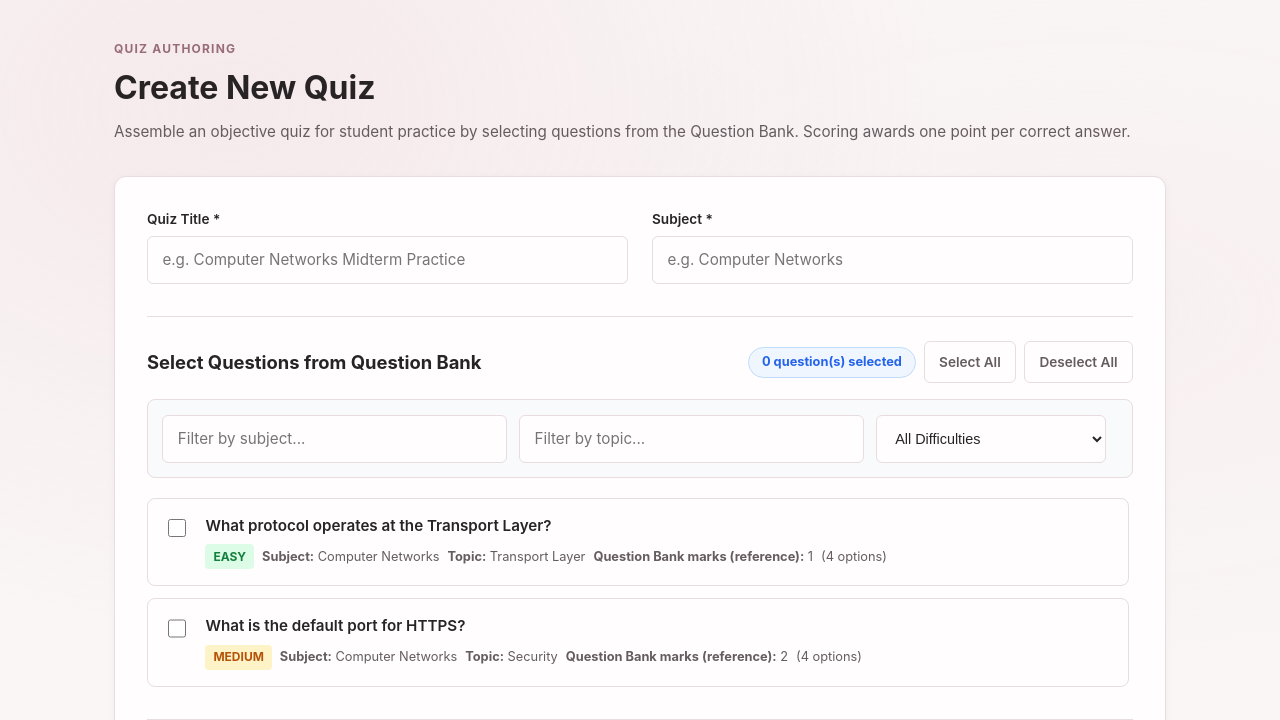
Test: CreateQuizPage (CSMQ-49) › validates empty subject on submission
Expected: the text "What protocol operates at the Transport Layer?" is shown, [205,516,552,535]
Type "CN Midterm Prep" into the field labelled "Quiz Title *" at (388,260), box [147,236,628,284]
(page scrolled)
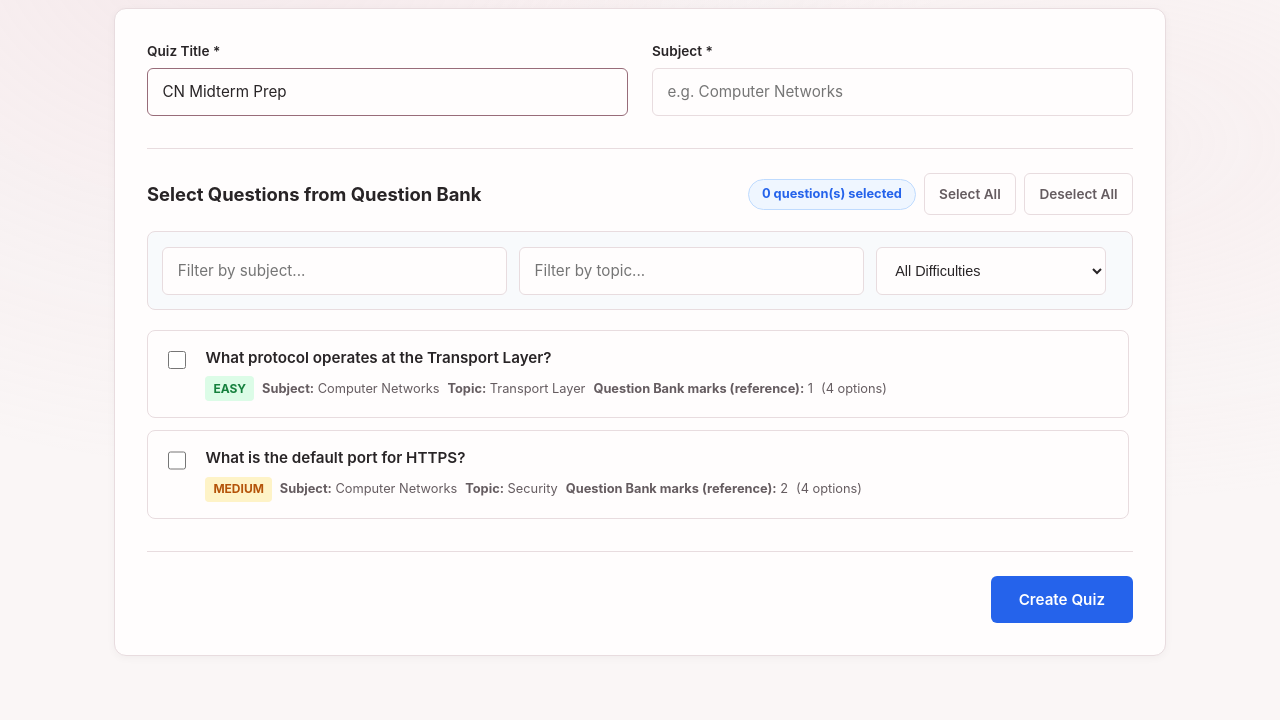
Click the button "Create Quiz" at (1062,599), box [991,576,1133,623]
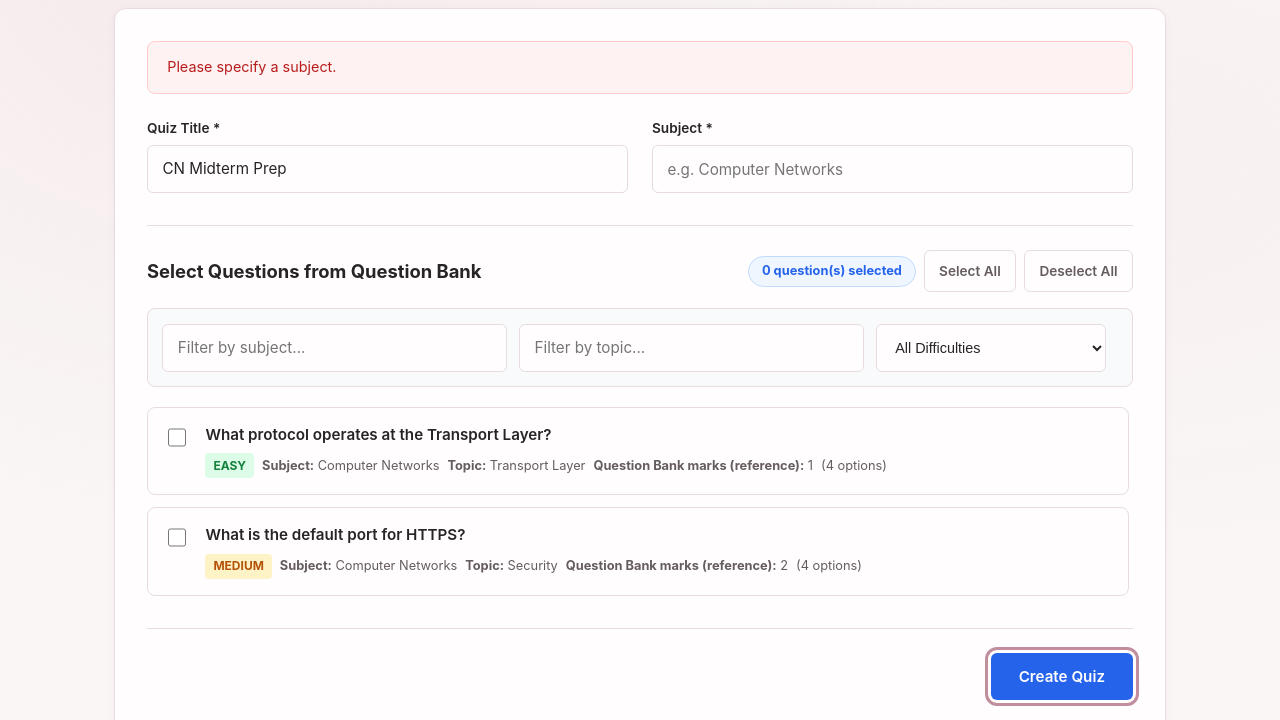
Result: the message reads "Please specify a subject." at [167,58,336,75]
